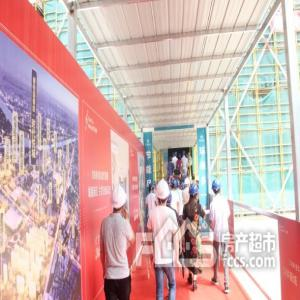blue: (189, 184, 200, 203), (212, 178, 222, 197)
white: (111, 184, 127, 217), (157, 180, 170, 207)
